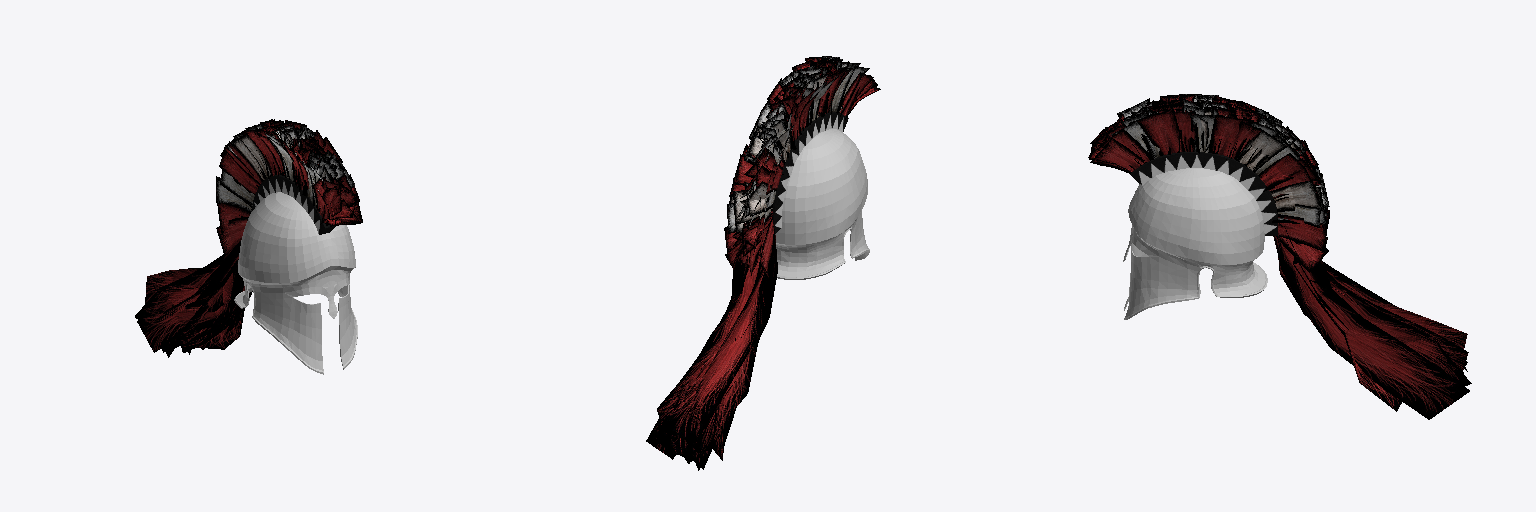
3 views of the same model, side by side, from view 1: azimuth 30°, elevation 25°; view 2: azimuth 150°, elevation 25°; view 3: azimuth 270°, elevation 25° (orthographic).
Size of the model in its own units: 0.009 by 0.0276 by 0.0309.
4 materials, 2 textured.